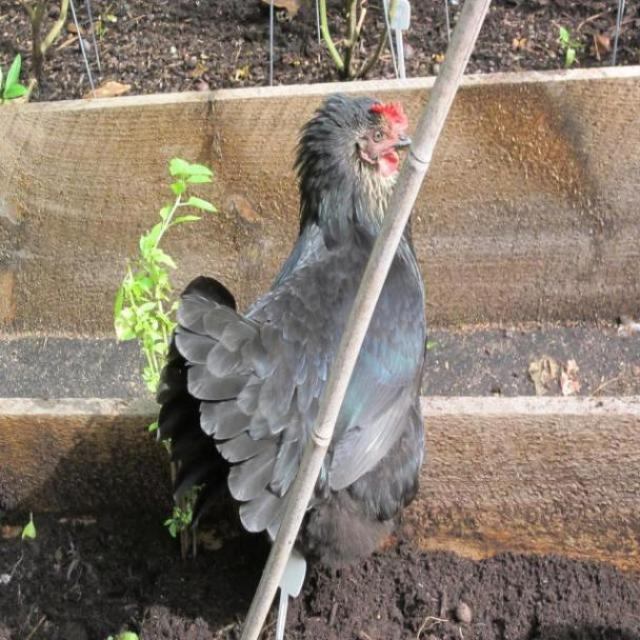Chicken: (153, 86, 428, 559)
